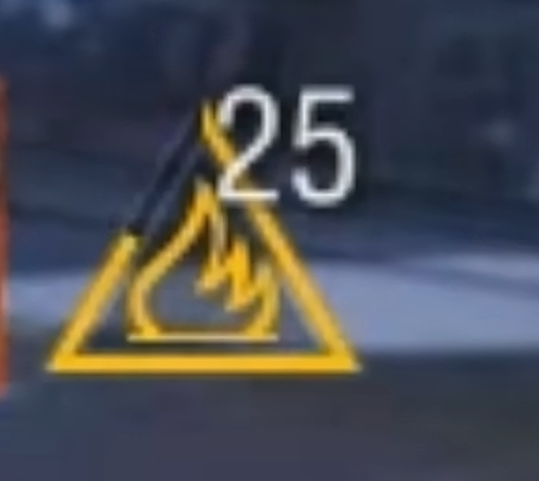1fire: (32, 232, 374, 386)
